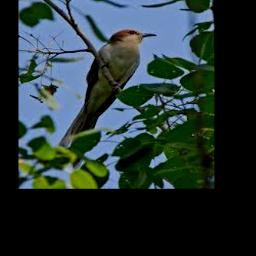Cuckoo: (59, 29, 157, 169)
